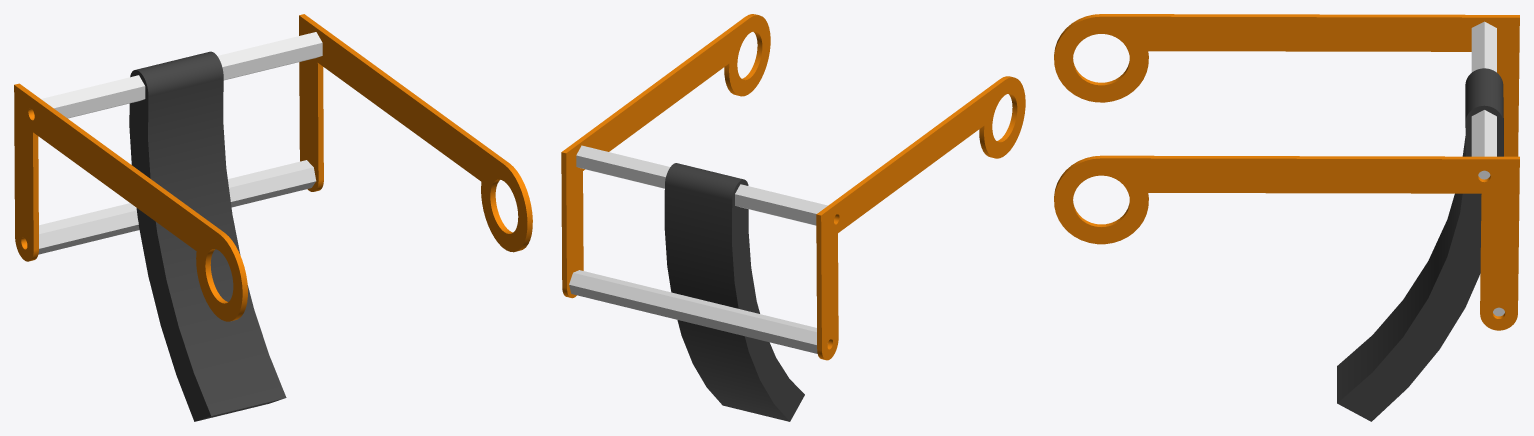
The picture shows the model from 3 angles, left to right: view 1: azimuth 30°, elevation 25°; view 2: azimuth 150°, elevation 25°; view 3: azimuth 270°, elevation 25°; orthographic projection. The views are drawn at different scales.
Visible parts, largest first — view 1: 9445-DynamicHoodCenter, 9445-DynamicHoodLeft, 9445-DynamicHoodRight, 1/2" Hex (6.5" L, 7075 Aluminum) (×2); view 2: 9445-DynamicHoodCenter, 9445-DynamicHoodLeft, 1/2" Hex (6.5" L, 7075 Aluminum) (×2), 9445-DynamicHoodRight; view 3: 9445-DynamicHoodRight, 9445-DynamicHoodLeft, 9445-DynamicHoodCenter, 1/2" Hex (6.5" L, 7075 Aluminum).
Part boxes in pixels (x1=…): 9445-DynamicHoodCenter: x1=129, y1=51, x2=286, y2=421; 9445-DynamicHoodLeft: x1=14, y1=83, x2=247, y2=321; 9445-DynamicHoodRight: x1=299, y1=14, x2=532, y2=252; 1/2" Hex (6.5" L, 7075 Aluminum) (×2): x1=38, y1=32, x2=322, y2=254; 9445-DynamicHoodCenter: x1=664, y1=163, x2=804, y2=421; 9445-DynamicHoodLeft: x1=816, y1=76, x2=1025, y2=360; 1/2" Hex (6.5" L, 7075 Aluminum) (×2): x1=569, y1=145, x2=827, y2=353; 9445-DynamicHoodRight: x1=561, y1=14, x2=770, y2=298; 9445-DynamicHoodRight: x1=1054, y1=155, x2=1519, y2=330; 9445-DynamicHoodLeft: x1=1054, y1=14, x2=1519, y2=156; 9445-DynamicHoodCenter: x1=1337, y1=68, x2=1503, y2=421; 1/2" Hex (6.5" L, 7075 Aluminum): x1=1471, y1=21, x2=1496, y2=179.
Size of the model in its own units: 0.1714 by 0.1756 by 0.2338.
